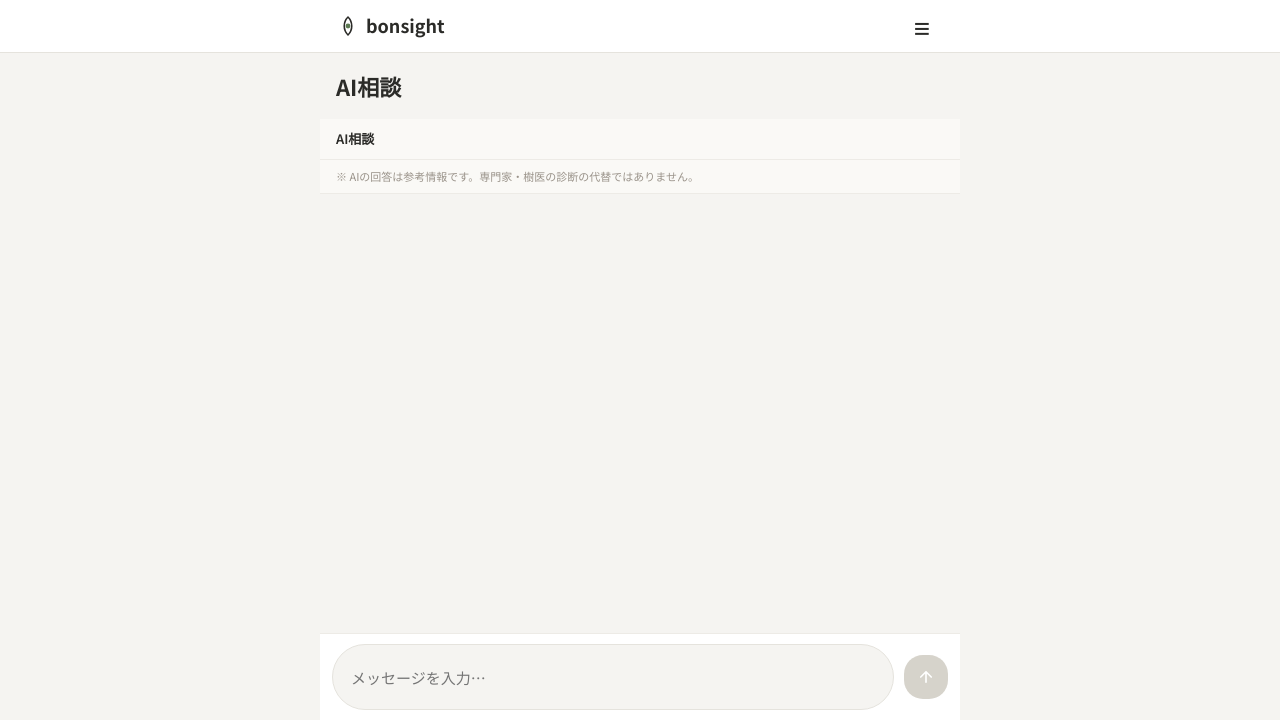
Test: S6AiChat › bonsaiId なし → sendChatGeneral が呼ばれ sendChat は呼ばれない
Type "テスト質問" into the field with placeholder "メッセージを入力…".
click(613, 677); type("テスト質問")  # box [349, 655, 877, 699]
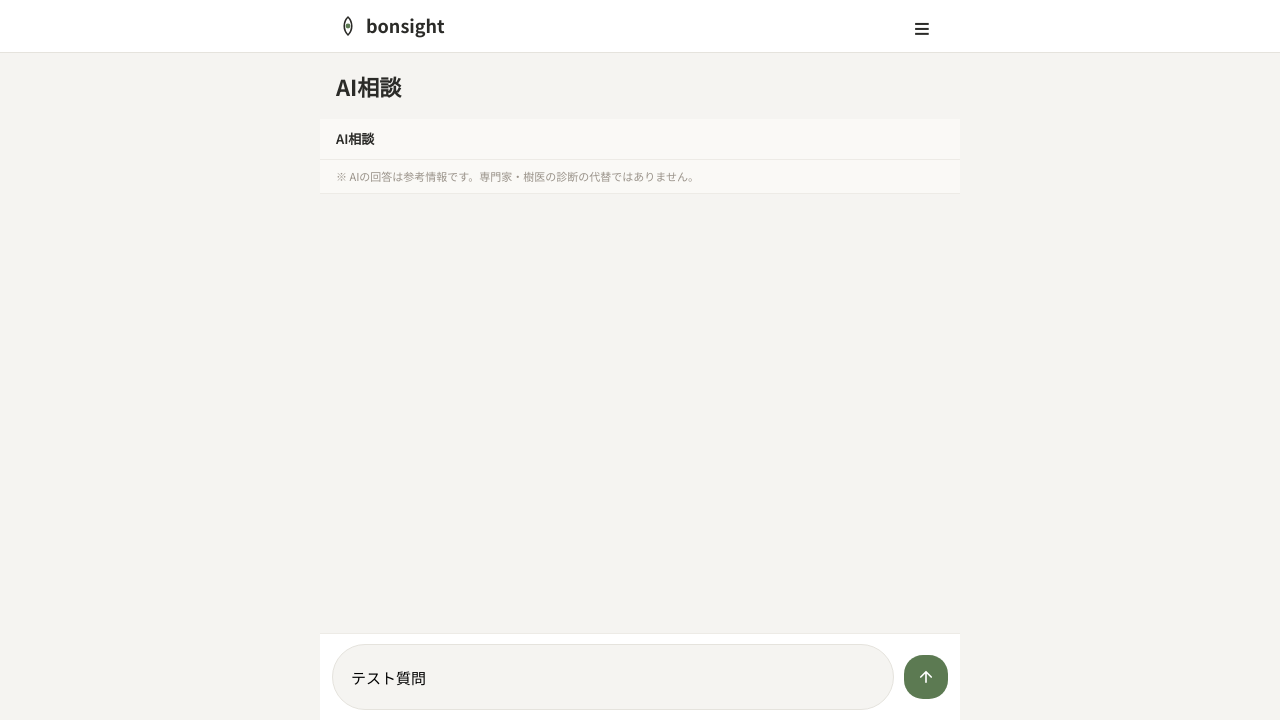
Click the button named "送信".
click(926, 677)  # box [904, 655, 948, 699]
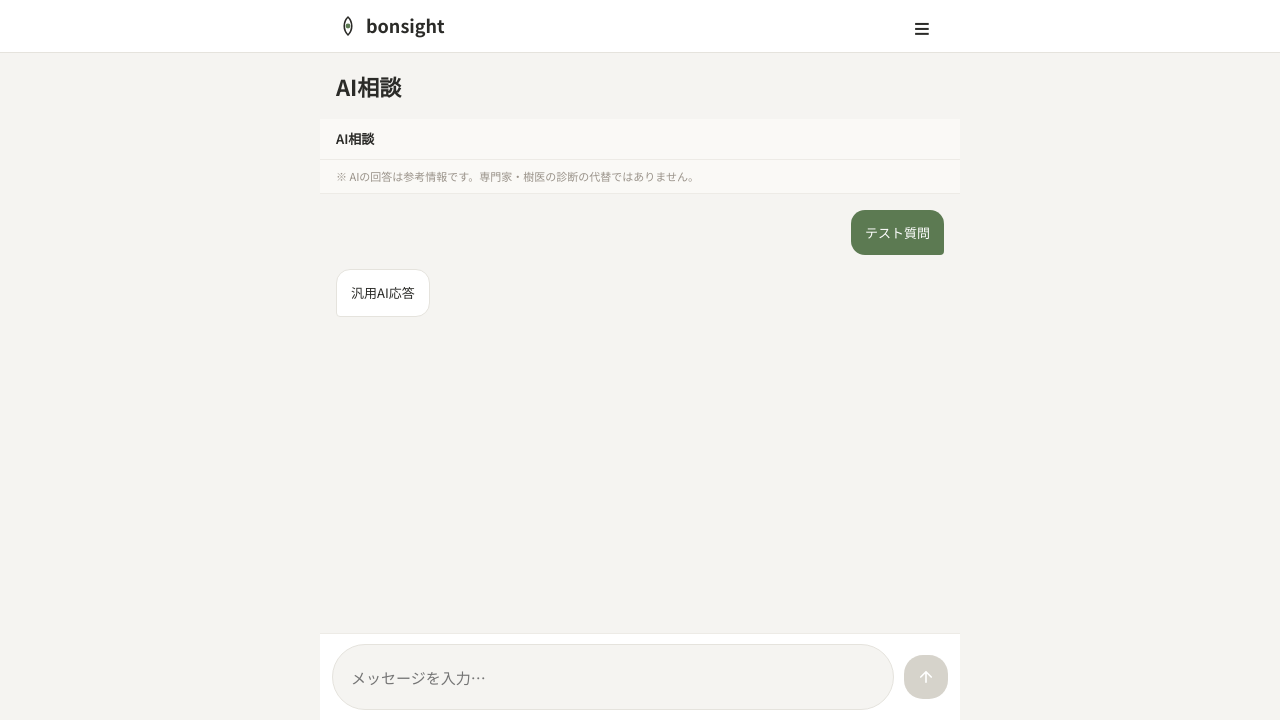
Check: the text "汎用AI応答" is shown, box [336, 269, 430, 317]
